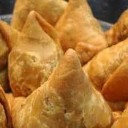samosa: (9, 49, 111, 128), (11, 12, 61, 95), (53, 1, 105, 61), (86, 36, 128, 106)
